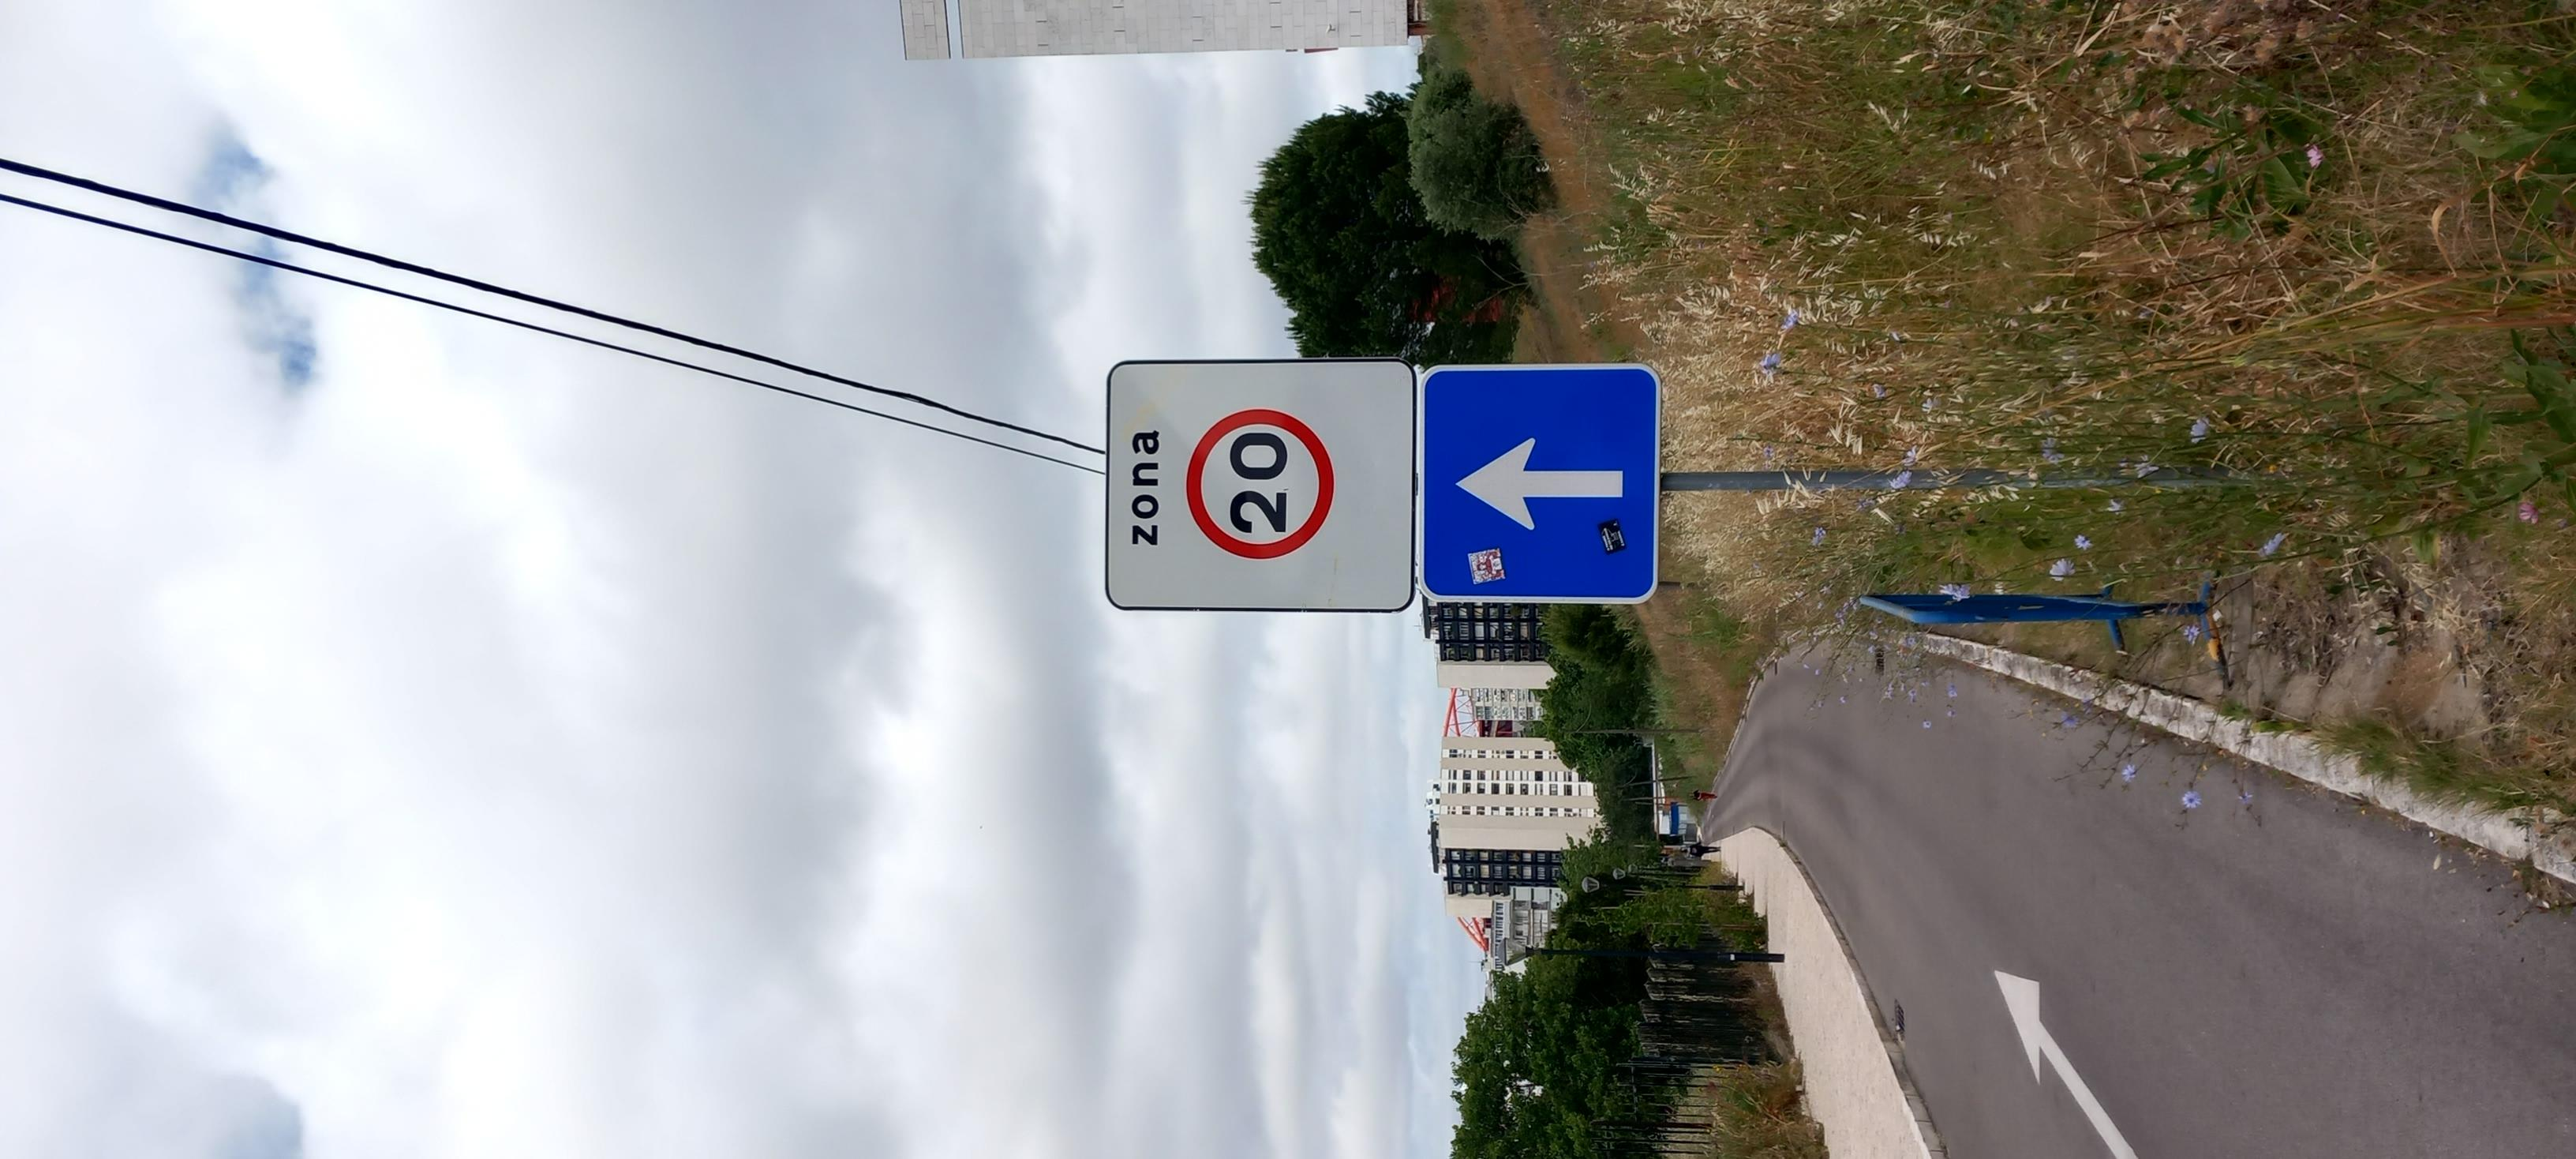sentido obrigatorio: (1194, 635, 1792, 755)
zona de velocidade limitada: (1166, 490, 1827, 641)
